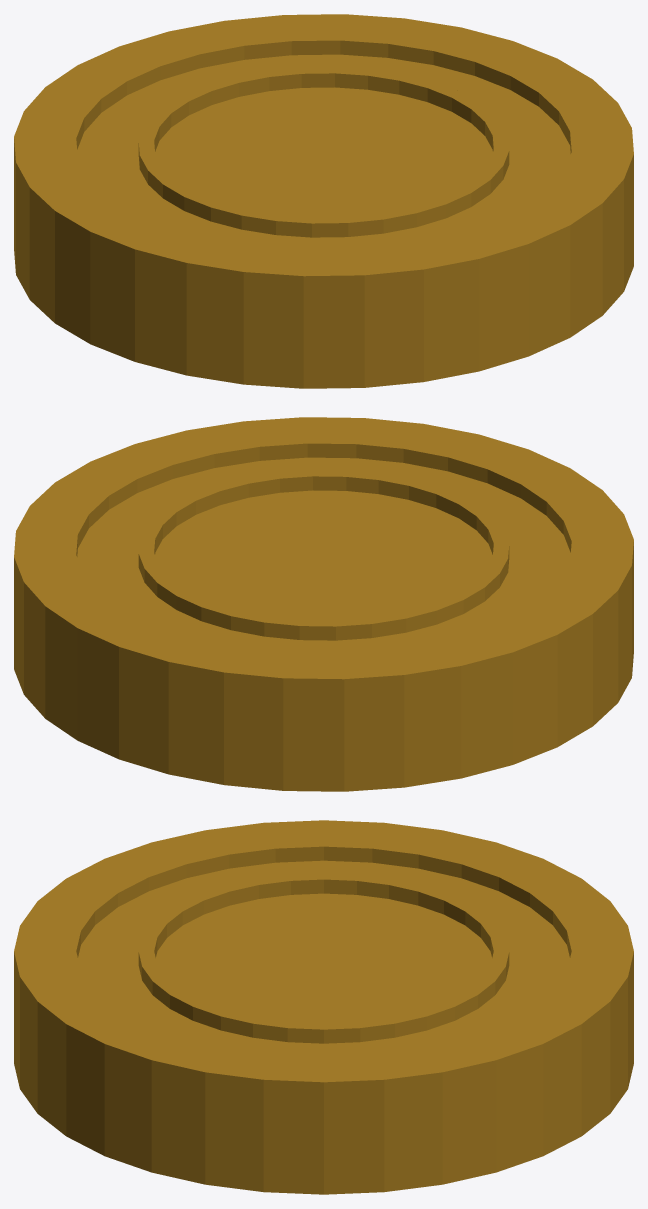
Rendered from coin.fbx.
The picture shows the model from 3 angles, top to bottom: view 1: azimuth 30°, elevation 25°; view 2: azimuth 150°, elevation 25°; view 3: azimuth 270°, elevation 25°; orthographic projection.
Parts seen in each view (by area): view 1: Cylinder; view 2: Cylinder; view 3: Cylinder.
Part boxes in pixels (x1,y1,x2,y2): Cylinder: (14,14,633,388); Cylinder: (14,417,633,791); Cylinder: (14,820,633,1194).
Size of the model in its own units: 200 by 40 by 200.
